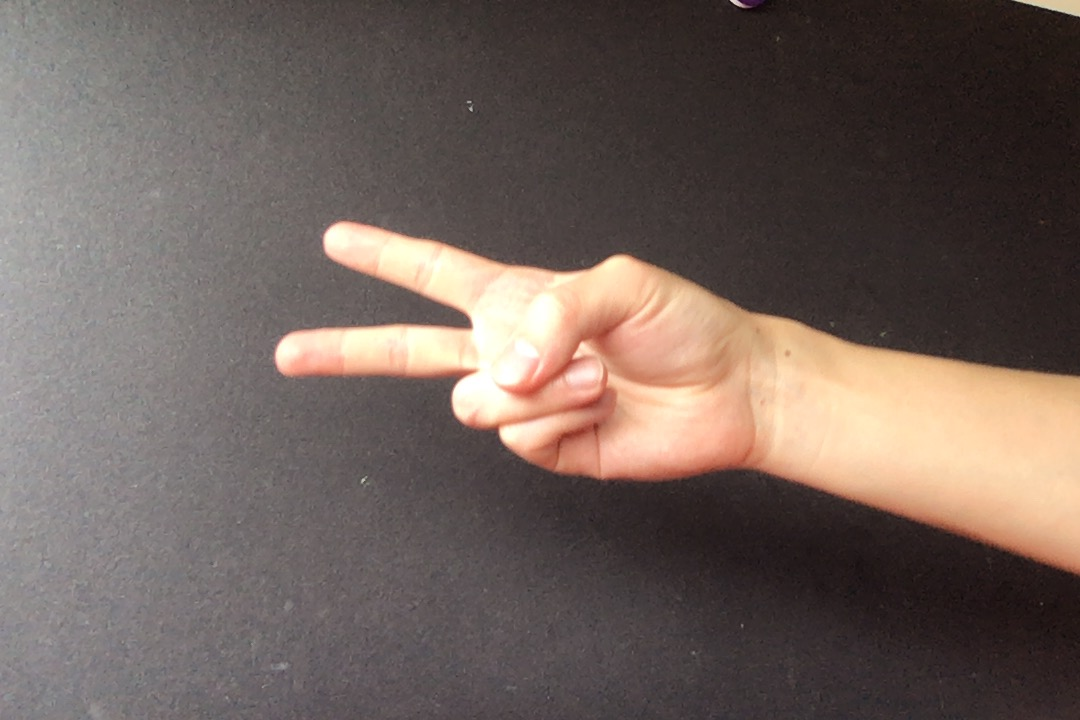peacesign: (265, 216, 763, 487)
